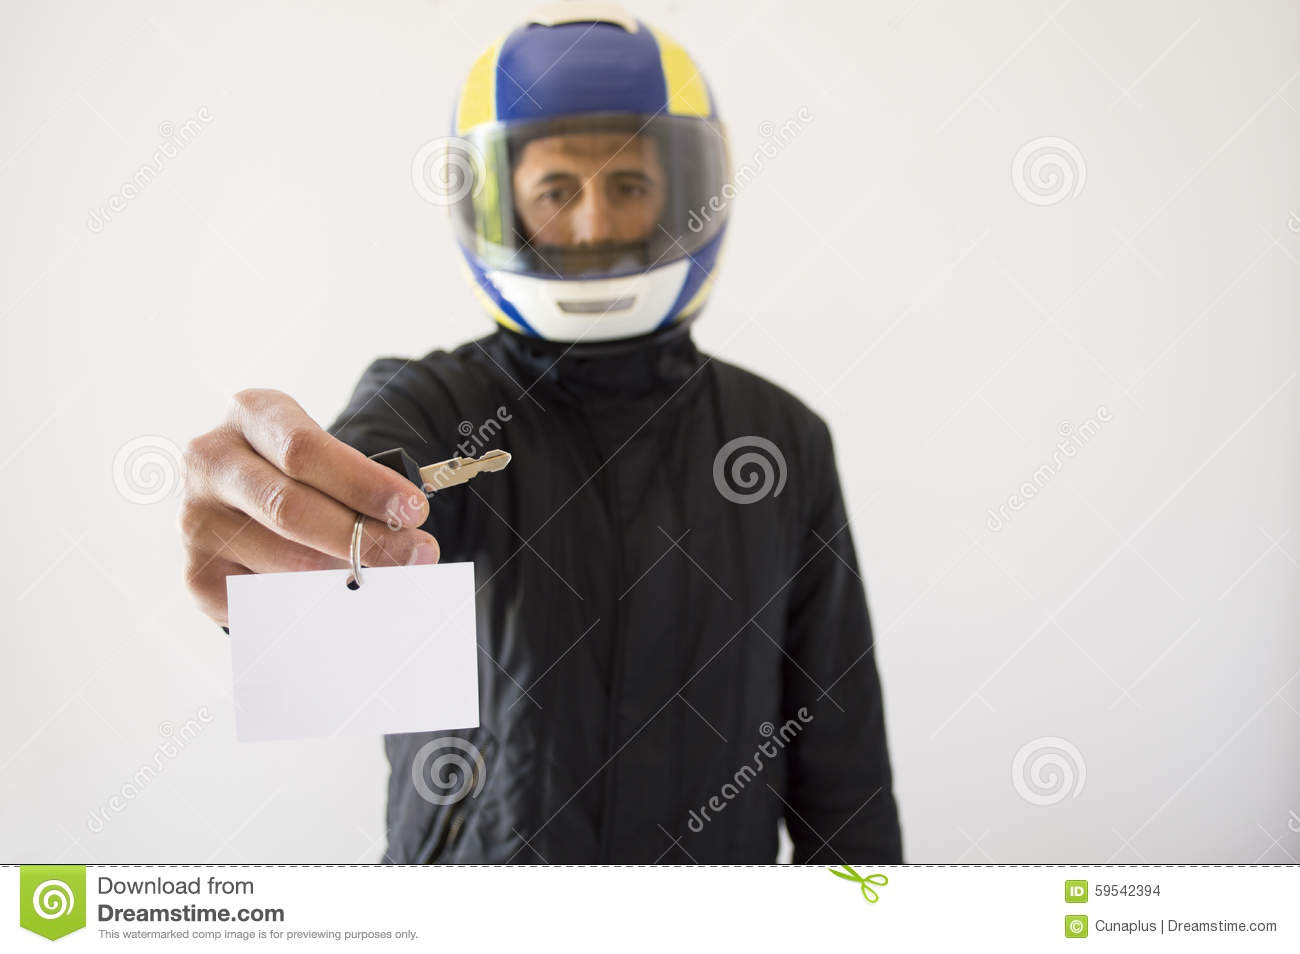helmet: (440, 11, 749, 337)
